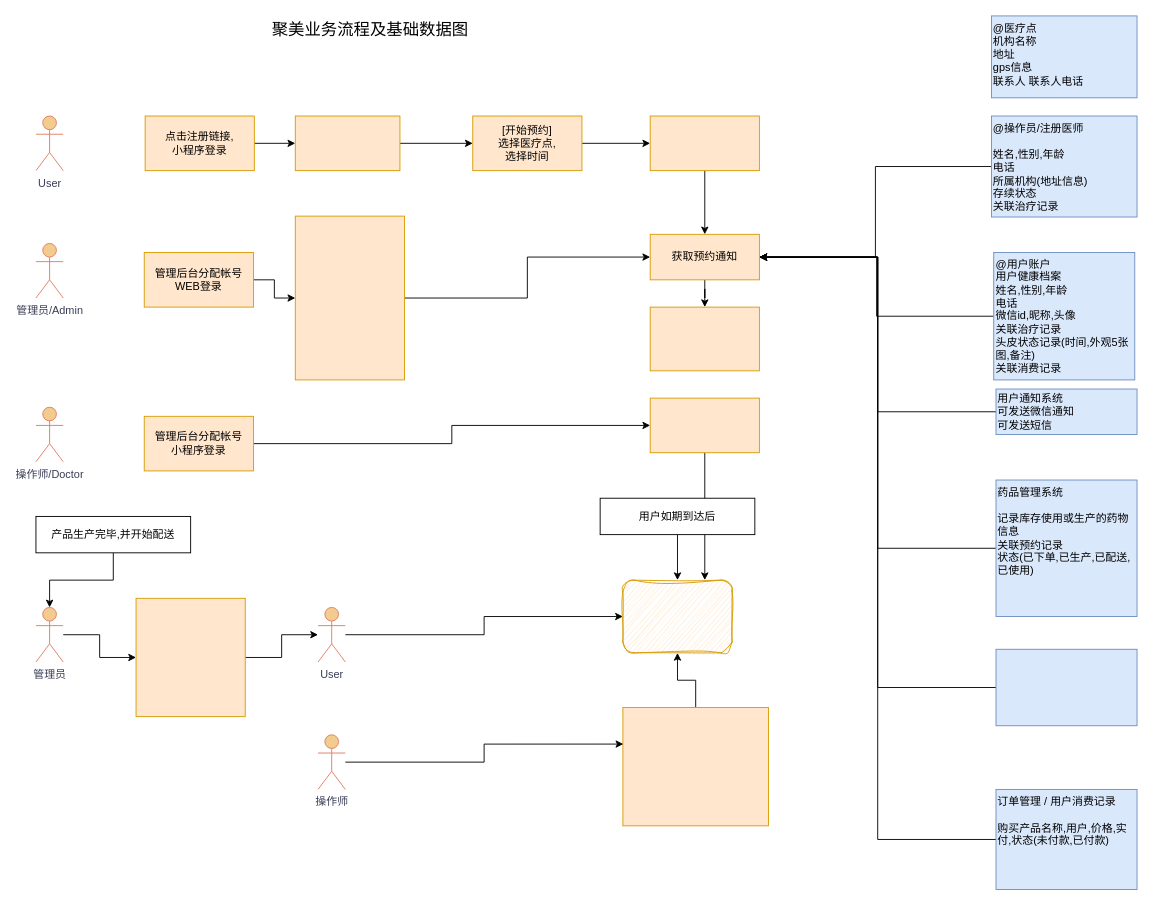
Image size: 1153x905. Some labels were removed from this diagram. The shapes that lost their labels are listed below. From the top down, each one's box as (x1, y1, x2, y2) in pixels, then its label:
(294, 115, 400, 171): [开始预约] 输入姓名,性别,获取电话 (注册后)
(649, 115, 759, 171): 进入预约流程 询问手术时间 使用日历UI, 精确到小时分钟
(294, 215, 404, 380): 可查询 用户 预约记录 治疗记录 健康档案 可查询 治疗师 治疗记录 可查询 产品 流转状态 可查询 订单记录
(649, 306, 759, 371): 调度生产,确认产品配送地点与时间 确保按时送达
(649, 397, 759, 453): 获取预约通知, 通知预约更新
(622, 579, 732, 653): 开始接受治疗 /再接受治疗
(135, 597, 245, 717): 发送通知 微信/短信 通知用户 指定地点,时间 (如需协调,人工介入后,在后台修改更新) 管理员也可决定下一个疗程时间.
(995, 648, 1137, 726): 治疗记录 时间,操作人,用户,状态(预约中,已完成)
(622, 707, 768, 826): 第一次治疗,拍摄用户5张头部照片上传;建立用户跟踪档案; 填写治疗记录; 填写/扫码对应药物编号; 确认本次治疗完成. 后续治疗流程相同
